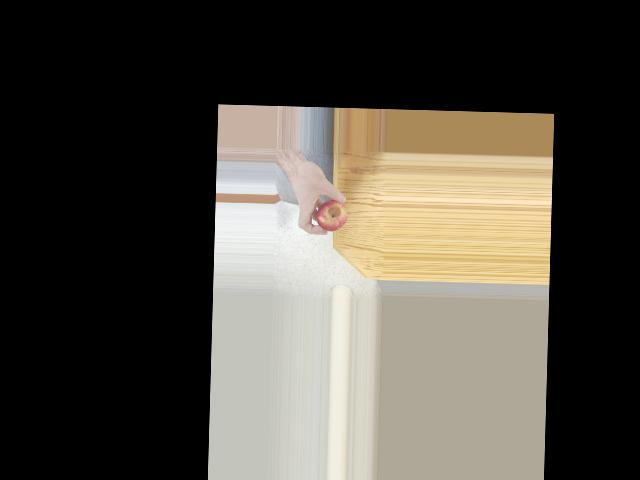apple: (316, 194, 348, 232)
